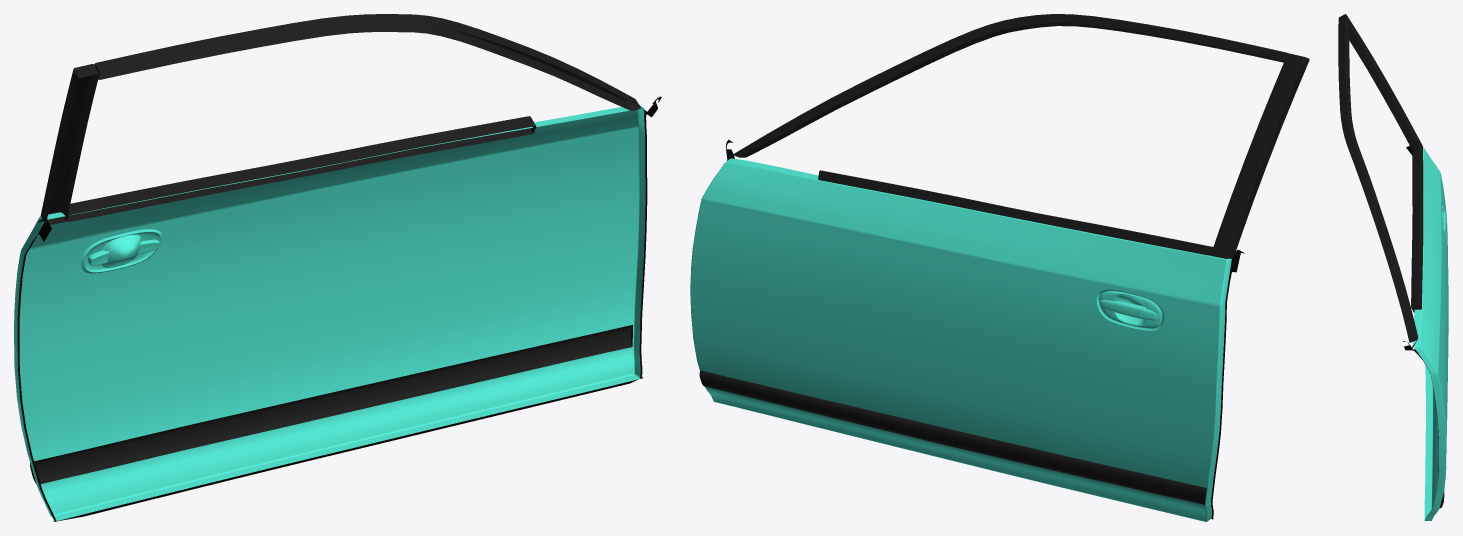
3 renders of one model, left to right at view 1: azimuth 30°, elevation 25°; view 2: azimuth 150°, elevation 25°; view 3: azimuth 270°, elevation 25°, orthographic. The views are drawn at different scales.
Visible parts, largest first — view 1: H025_10_261B_L_1_DaS_H025_10_261B_L, H025_10_261B_L_H025_10_261B_L_2_D, H025_10_261B_L_H025_10_261B_L_3_D; view 2: H025_10_261B_L_1_DaS_H025_10_261B_L, H025_10_261B_L_H025_10_261B_L_2_D, H025_10_261B_L_H025_10_261B_L_3_D; view 3: H025_10_261B_L_1_DaS_H025_10_261B_L, H025_10_261B_L_H025_10_261B_L_2_D, H025_10_261B_L_H025_10_261B_L_3_D.
Part boxes in pixels (left/top/right/bottom): H025_10_261B_L_1_DaS_H025_10_261B_L: left=14, top=104, right=645, bottom=520; H025_10_261B_L_H025_10_261B_L_2_D: left=30, top=14, right=640, bottom=483; H025_10_261B_L_H025_10_261B_L_3_D: left=17, top=96, right=661, bottom=521; H025_10_261B_L_1_DaS_H025_10_261B_L: left=690, top=158, right=1231, bottom=521; H025_10_261B_L_H025_10_261B_L_2_D: left=699, top=14, right=1309, bottom=504; H025_10_261B_L_H025_10_261B_L_3_D: left=726, top=139, right=1244, bottom=519; H025_10_261B_L_1_DaS_H025_10_261B_L: left=1413, top=147, right=1448, bottom=520; H025_10_261B_L_H025_10_261B_L_2_D: left=1338, top=14, right=1444, bottom=508; H025_10_261B_L_H025_10_261B_L_3_D: left=1403, top=145, right=1438, bottom=519.
Bounding box in the file's own units: 145 × 109 × 34.41.
